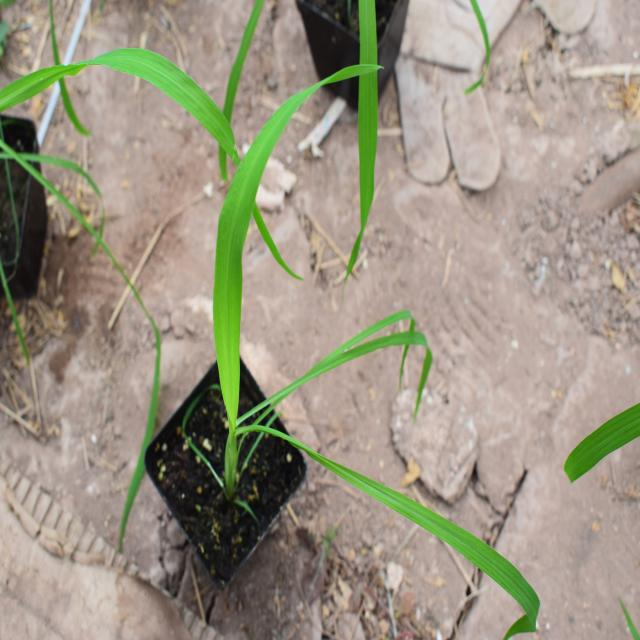barnyard_grass: (218, 70, 517, 614)
